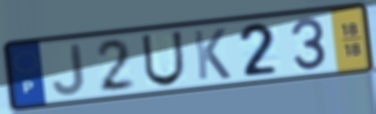2: (239, 20, 285, 80), (95, 37, 138, 95)
3: (288, 15, 328, 74)
J: (50, 41, 88, 97)
K: (191, 27, 233, 82)
U: (139, 29, 187, 89)
